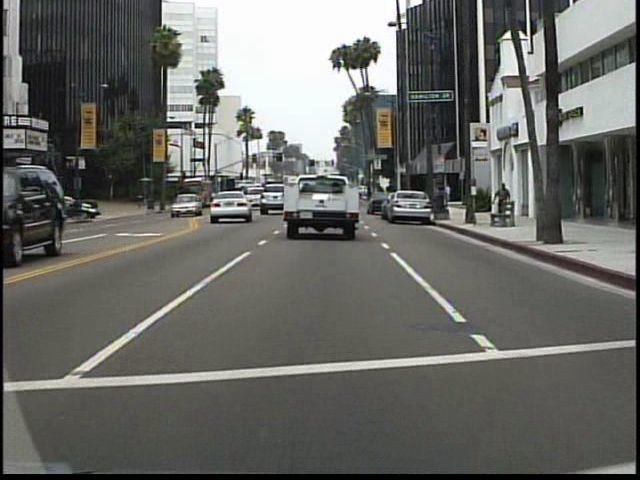person: (493, 181, 512, 222), (137, 189, 148, 214)
